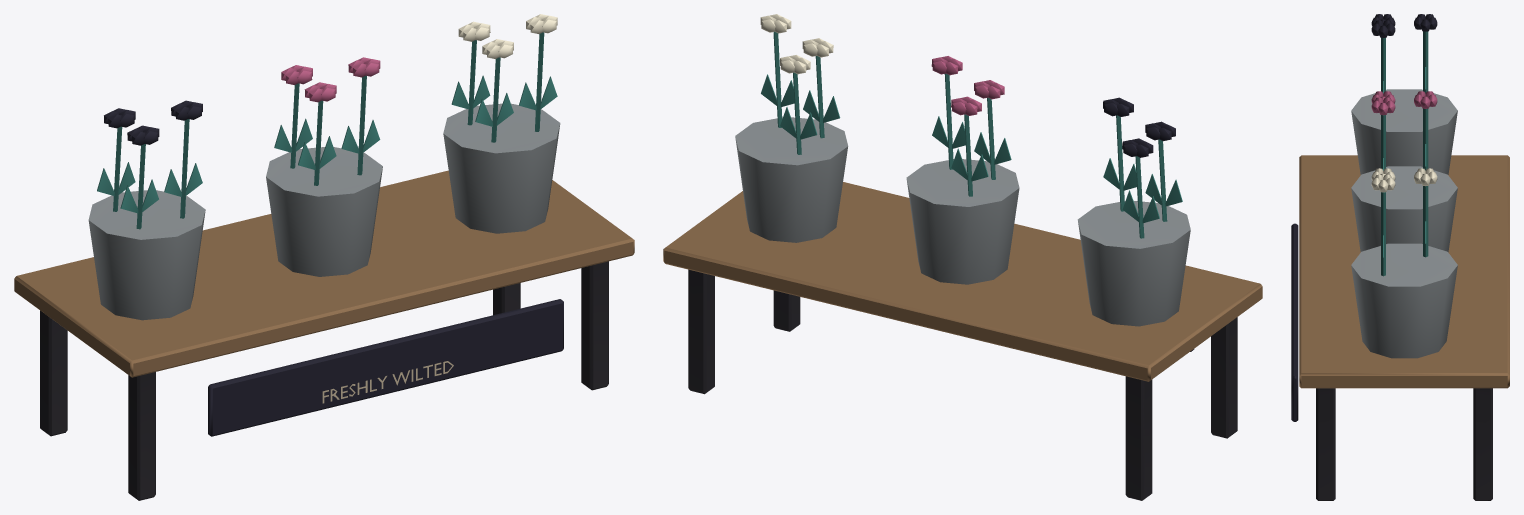
Rendered from stall_flowers.glb.
3 views of the same model, side by side, from view 1: azimuth 30°, elevation 25°; view 2: azimuth 150°, elevation 25°; view 3: azimuth 270°, elevation 25° (orthographic). The views are drawn at different scales.
Parts seen in each view (by area): view 1: stall_flowers; view 2: stall_flowers; view 3: stall_flowers.
Boxes of the visible parts, box(x1,y1,x2,y2) form: stall_flowers: box(14, 14, 634, 500); stall_flowers: box(663, 14, 1262, 500); stall_flowers: box(1291, 14, 1509, 500).
Bounding box in the file's own units: 1.85 × 1.22 × 0.779.
